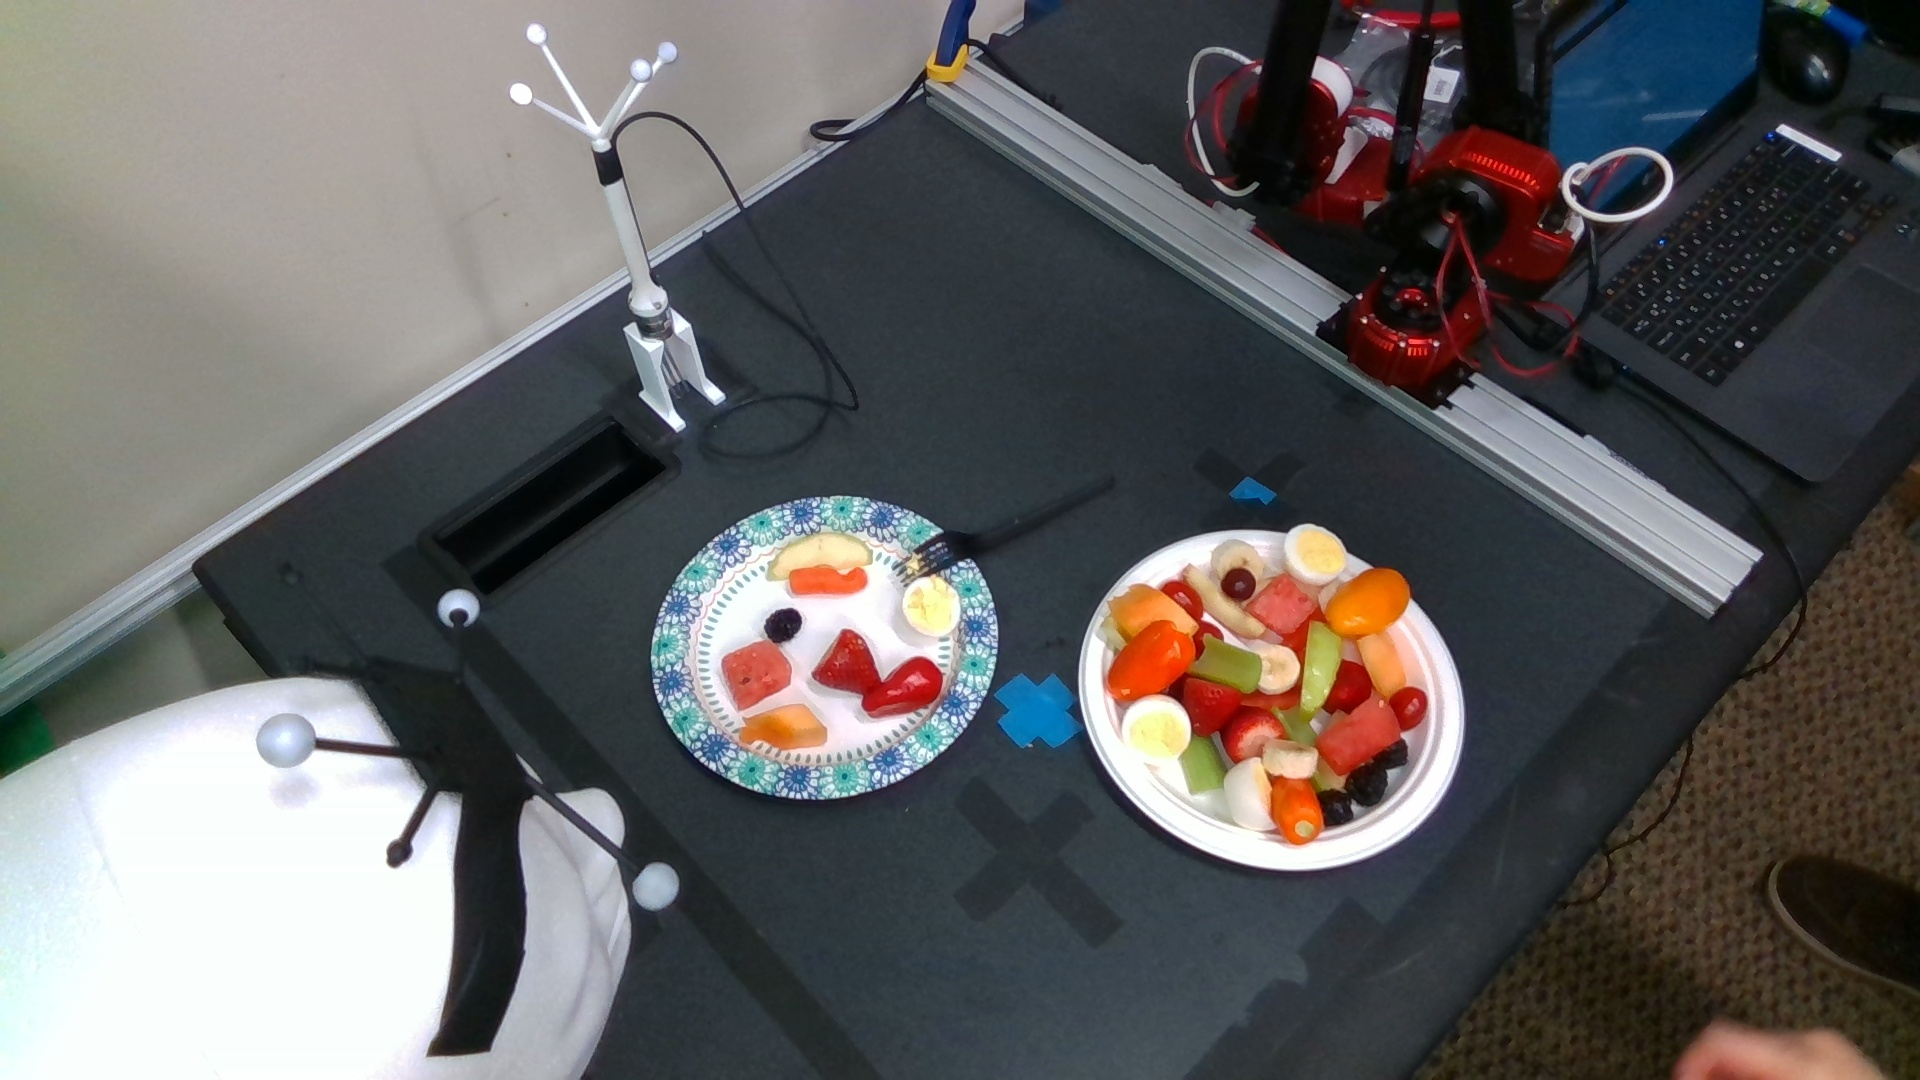apple: (766, 535, 874, 583), (1299, 620, 1342, 711)
banana: (1258, 645, 1302, 694), (1262, 738, 1317, 777)
bell_pepper: (1109, 624, 1193, 704), (1331, 568, 1408, 636), (861, 658, 942, 716), (1274, 779, 1323, 844)
blackberry: (1346, 764, 1387, 806), (765, 608, 802, 644), (1317, 789, 1353, 824)
cantalope: (1112, 585, 1197, 634), (744, 703, 827, 752), (1357, 633, 1407, 695)
carrot: (790, 566, 866, 593)
celery: (1189, 636, 1261, 694), (1179, 736, 1228, 795)
cherry_tomato: (1162, 580, 1204, 620), (1393, 688, 1427, 729)
egg: (1121, 698, 1187, 764), (1283, 524, 1346, 584), (1225, 757, 1276, 829), (902, 578, 960, 636)
grape_purple: (1220, 568, 1255, 601)
melon: (1317, 699, 1398, 773), (723, 640, 791, 711), (1247, 574, 1316, 632)
strawberry: (812, 629, 882, 694), (1222, 707, 1284, 764), (1185, 676, 1242, 735), (1323, 661, 1367, 713)
